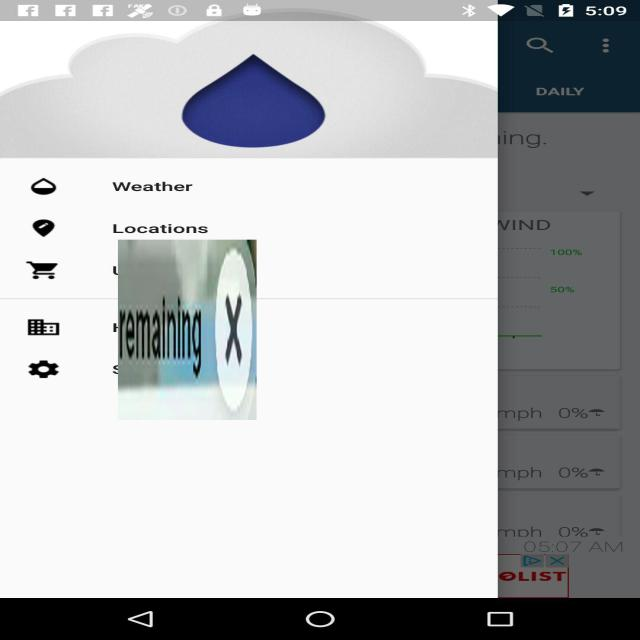misdirection: (118, 240, 257, 420)
